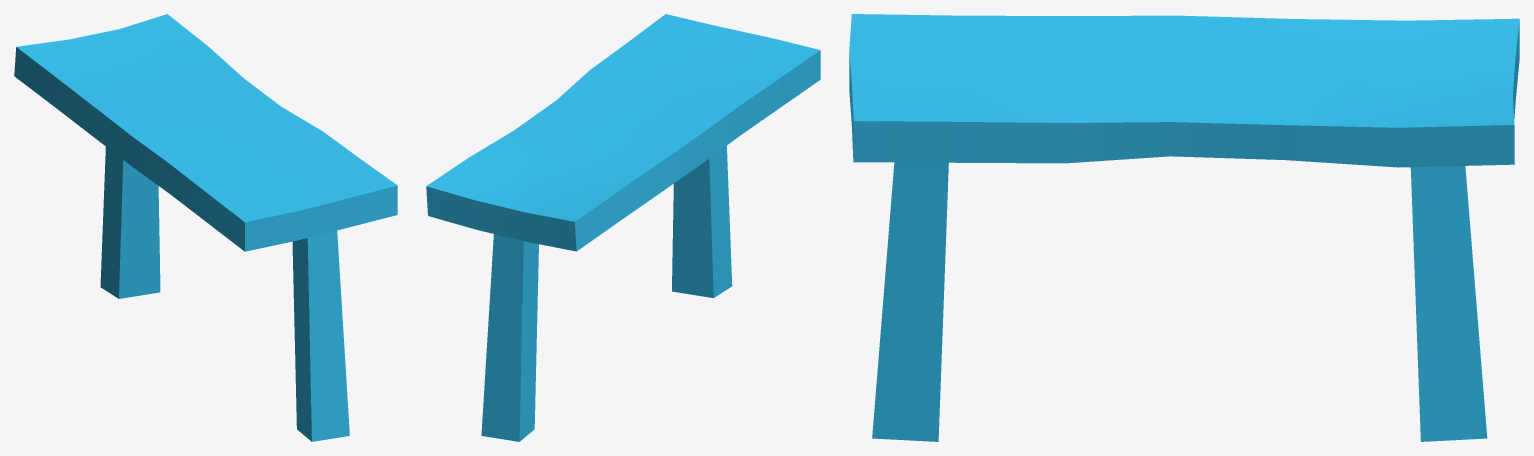
File: Bench_A.fbx
The picture shows the model from 3 angles, left to right: view 1: azimuth 30°, elevation 25°; view 2: azimuth 150°, elevation 25°; view 3: azimuth 270°, elevation 25°; orthographic projection. The views are drawn at different scales.
Parts seen in each view (by area): view 1: Bench_A; view 2: Bench_A; view 3: Bench_A.
Part boxes in pixels (x1=…): Bench_A: x1=14, y1=14, x2=397, y2=441; Bench_A: x1=426, y1=14, x2=820, y2=441; Bench_A: x1=849, y1=14, x2=1519, y2=441.
Bounding box in the file's own units: 54.98 × 82.31 × 144.
